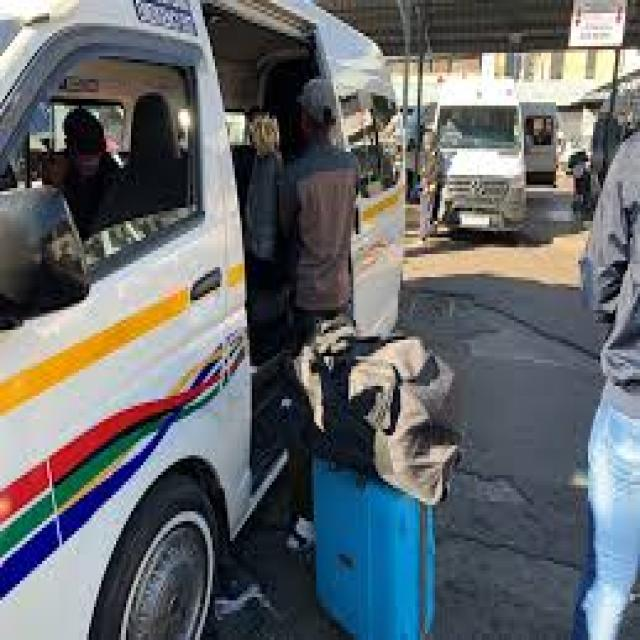MiniBus taxi: (428, 82, 532, 248)
